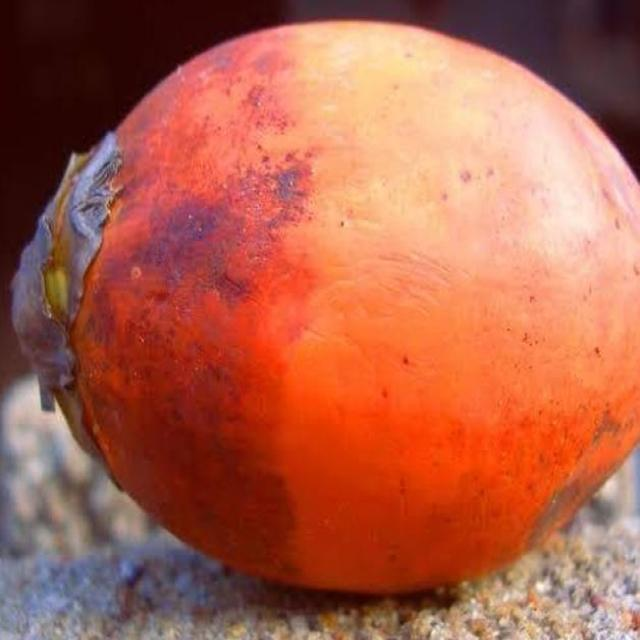good: (8, 20, 639, 599)
